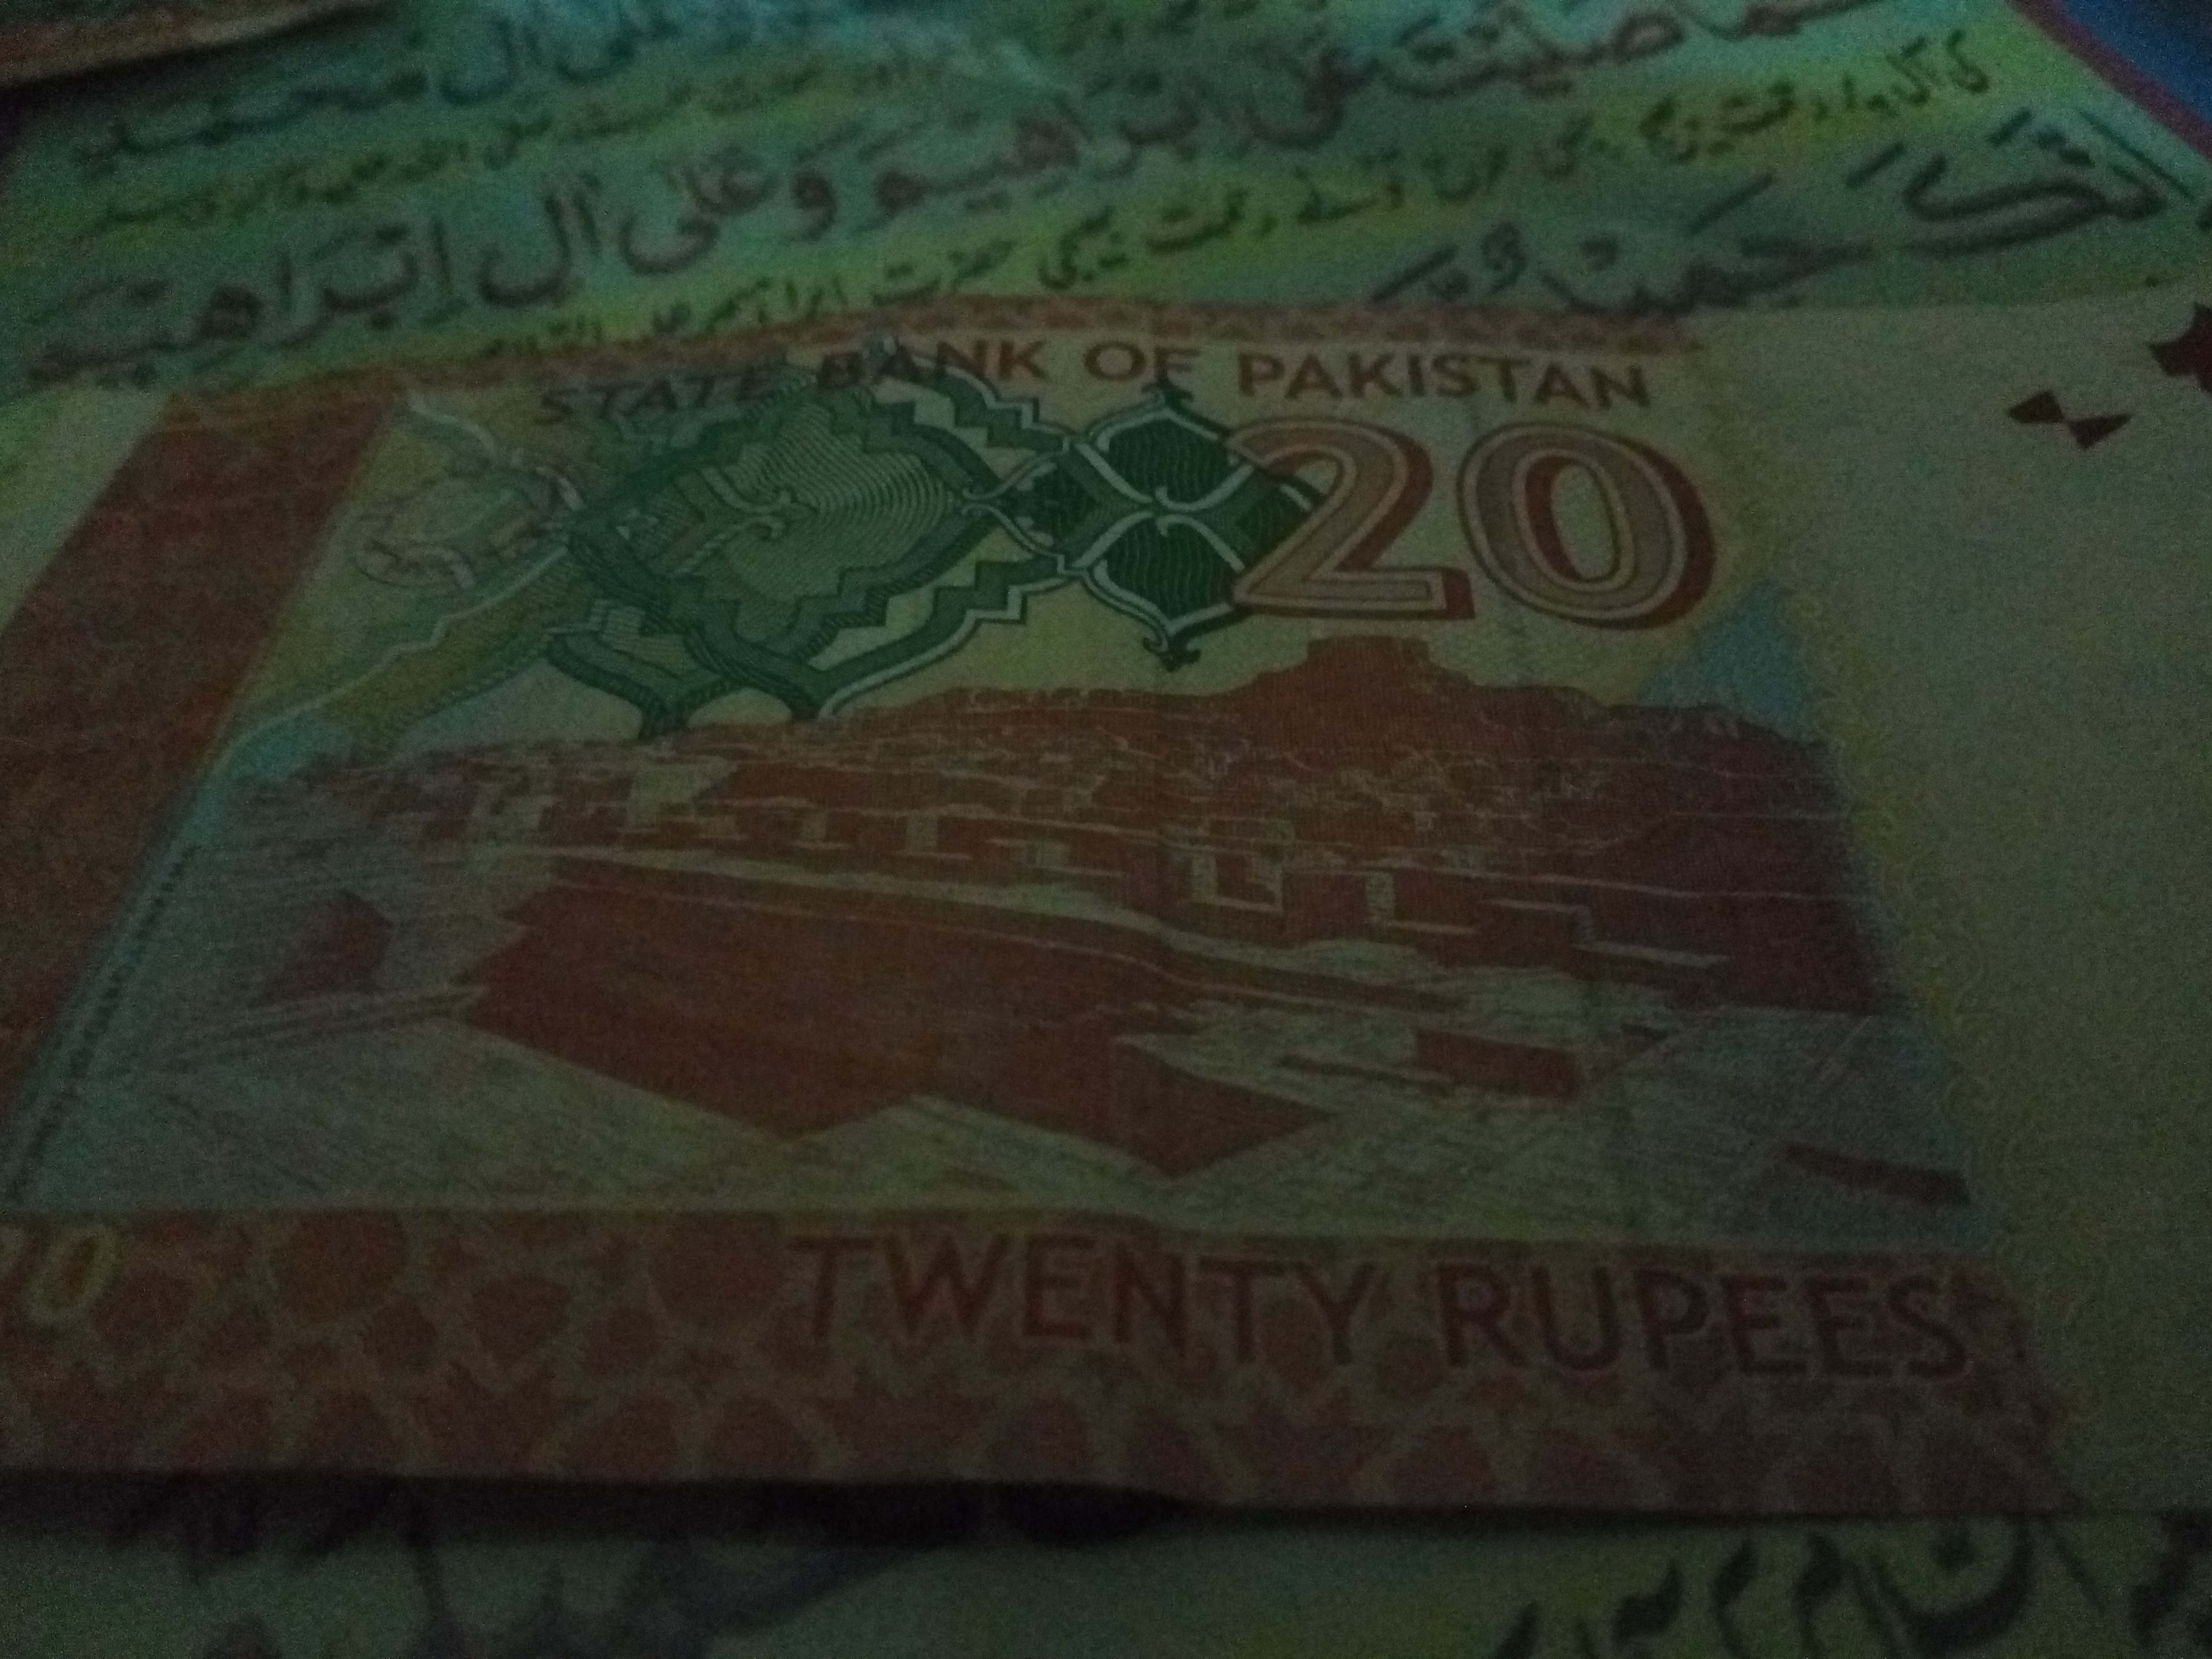20 rupee: (68, 286, 2165, 1542)
